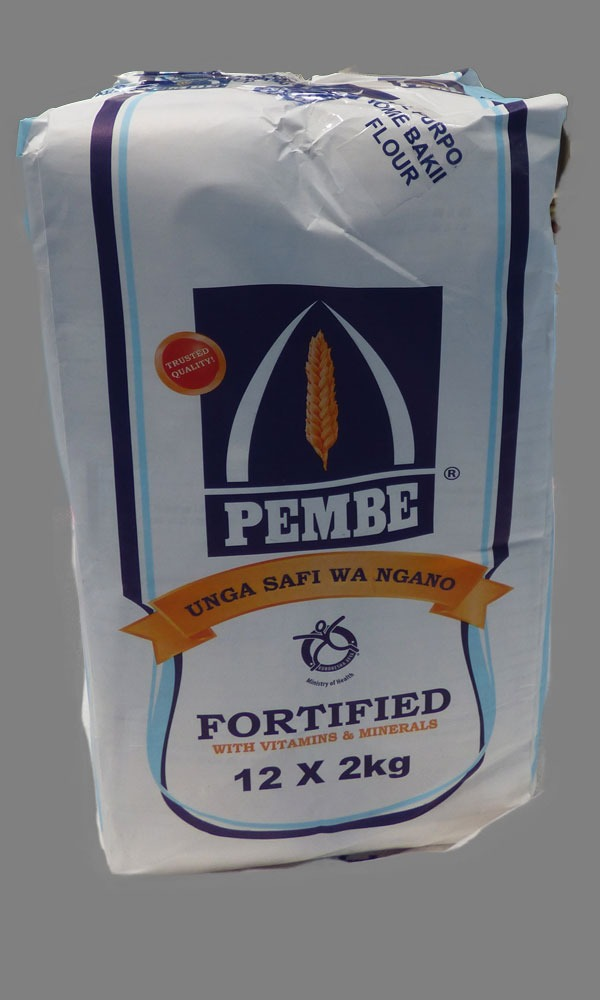wheat_flour_blue_label: (30, 65, 561, 869)
